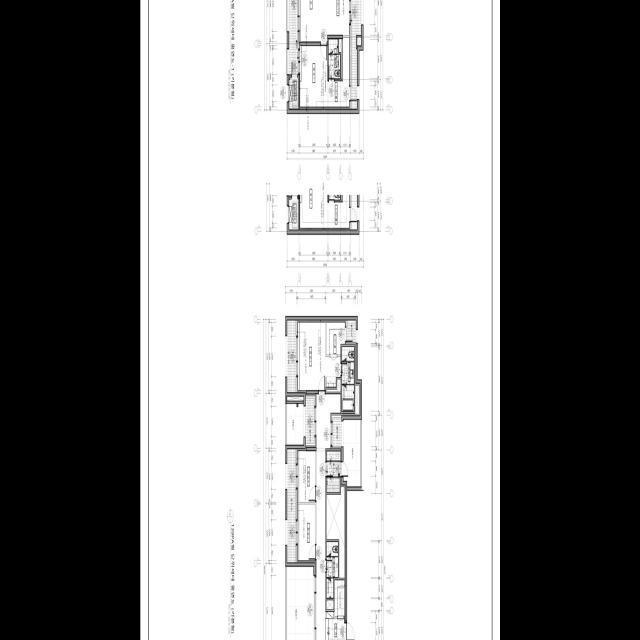background: (140, 0, 500, 640)
space_balconi: (287, 567, 313, 640), (343, 420, 360, 487), (351, 0, 361, 109), (287, 449, 295, 563), (289, 0, 298, 76), (287, 404, 303, 445), (326, 451, 341, 492), (287, 320, 295, 392), (305, 398, 314, 443), (332, 418, 341, 449), (346, 320, 356, 344)
space_bedroom: (297, 320, 340, 393), (299, 46, 327, 109), (296, 504, 315, 563), (296, 449, 315, 502)
space_dressroom: (327, 38, 350, 109), (326, 320, 346, 355)
space_front: (325, 612, 346, 640)
space_kitchen: (327, 0, 350, 36)
space_living_room: (315, 394, 340, 640), (298, 0, 327, 42)
space_other: (326, 485, 345, 578), (334, 580, 345, 617), (326, 379, 340, 392), (355, 383, 360, 416), (286, 397, 303, 402), (339, 39, 341, 79), (326, 600, 333, 609), (357, 37, 361, 45)
space_outdoor_room: (289, 77, 298, 109)
space_toilet: (341, 347, 354, 411), (326, 542, 338, 598), (328, 39, 340, 79)
